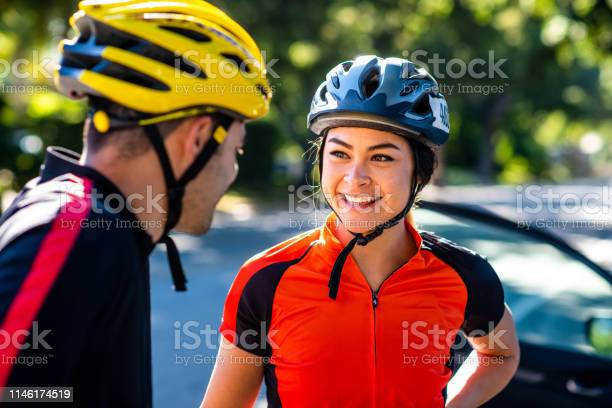helmet: (54, 1, 273, 236), (308, 54, 450, 246)
